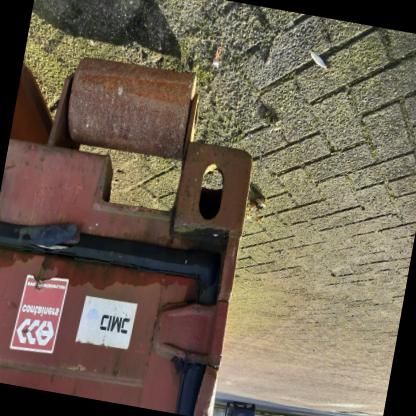CornerCasting: (165, 134, 259, 249)
